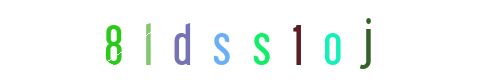1: (221, 0, 301, 80)
8: (73, 0, 153, 80)
D: (155, 0, 235, 80)
J: (294, 0, 374, 80)
L: (147, 0, 227, 80)
O: (292, 0, 372, 80)
S: (195, 0, 275, 80), (211, 0, 291, 80)
